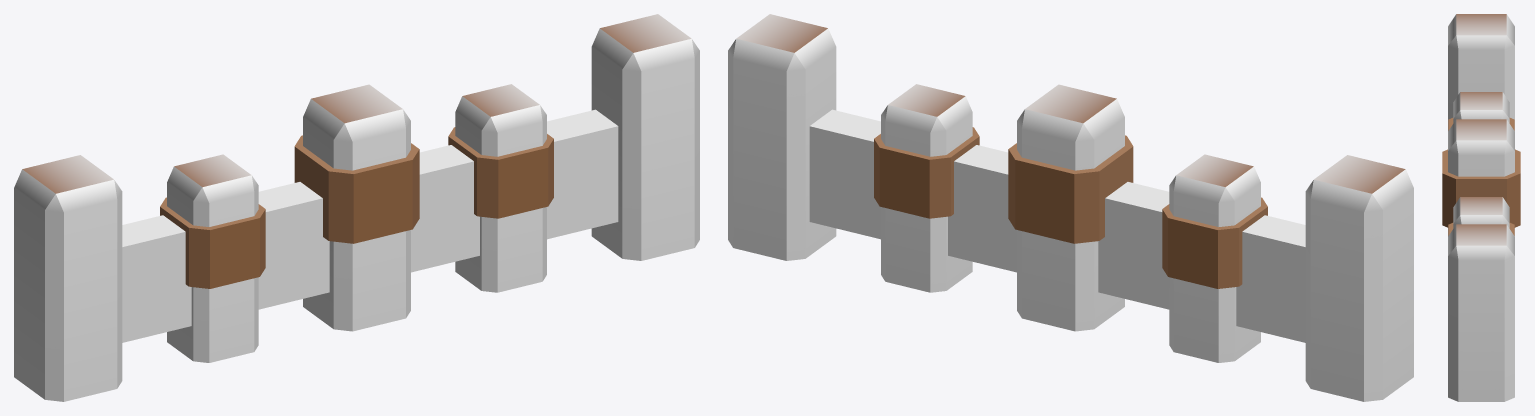
Rendered from Wall_Lv3_1.fbx.
3 views of the same model, side by side, from view 1: azimuth 30°, elevation 25°; view 2: azimuth 150°, elevation 25°; view 3: azimuth 270°, elevation 25° (orthographic). The views are drawn at different scales.
Parts seen in each view (by area): view 1: Wall; view 2: Wall; view 3: Wall.
Part boxes in pixels (box(x1,y1,x2,y2)): Wall: box(14, 14, 699, 401); Wall: box(728, 14, 1413, 401); Wall: box(1442, 14, 1520, 401).
Size of the model in its own units: 1.51 by 0.4514 by 0.2098.
